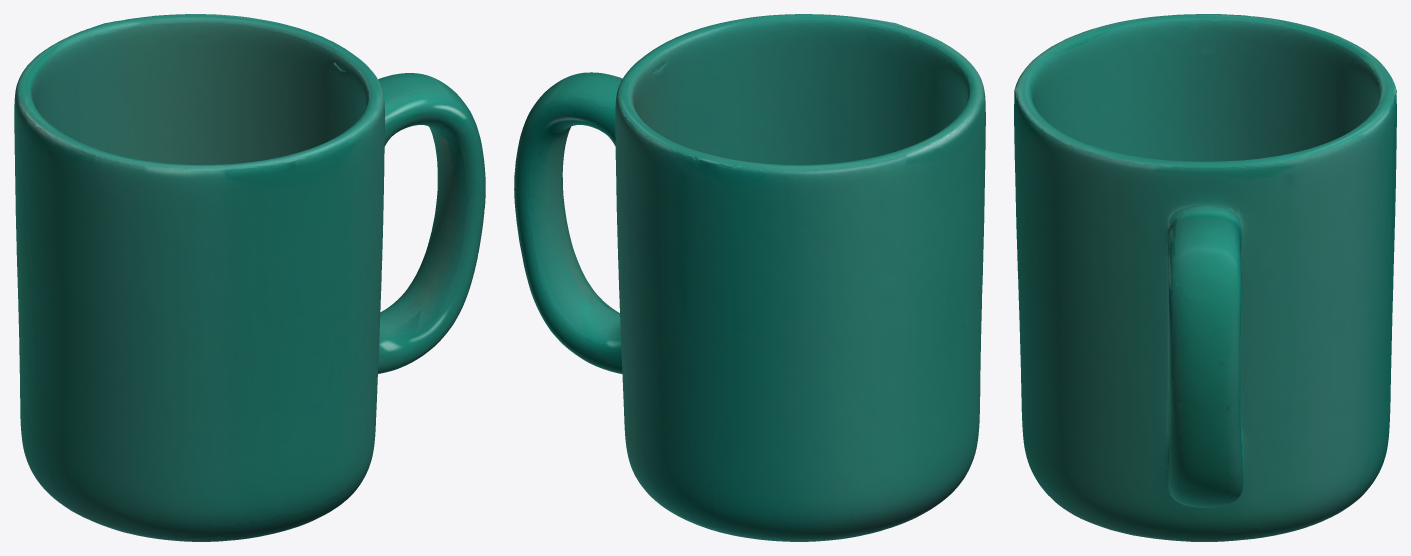
The model's file is cup.glb.
3 renders of one model, left to right at view 1: azimuth 30°, elevation 25°; view 2: azimuth 150°, elevation 25°; view 3: azimuth 270°, elevation 25°, orthographic.
Parts seen in each view (by area): view 1: geometry_0; view 2: geometry_0; view 3: geometry_0.
Boxes of the visible parts, bbox=[...] form: geometry_0: bbox=[14, 14, 485, 541]; geometry_0: bbox=[514, 14, 985, 541]; geometry_0: bbox=[1014, 14, 1396, 541].
Bounding box in the file's own units: 0.111 × 0.095 × 0.0833.
1 material, 1 textured.
